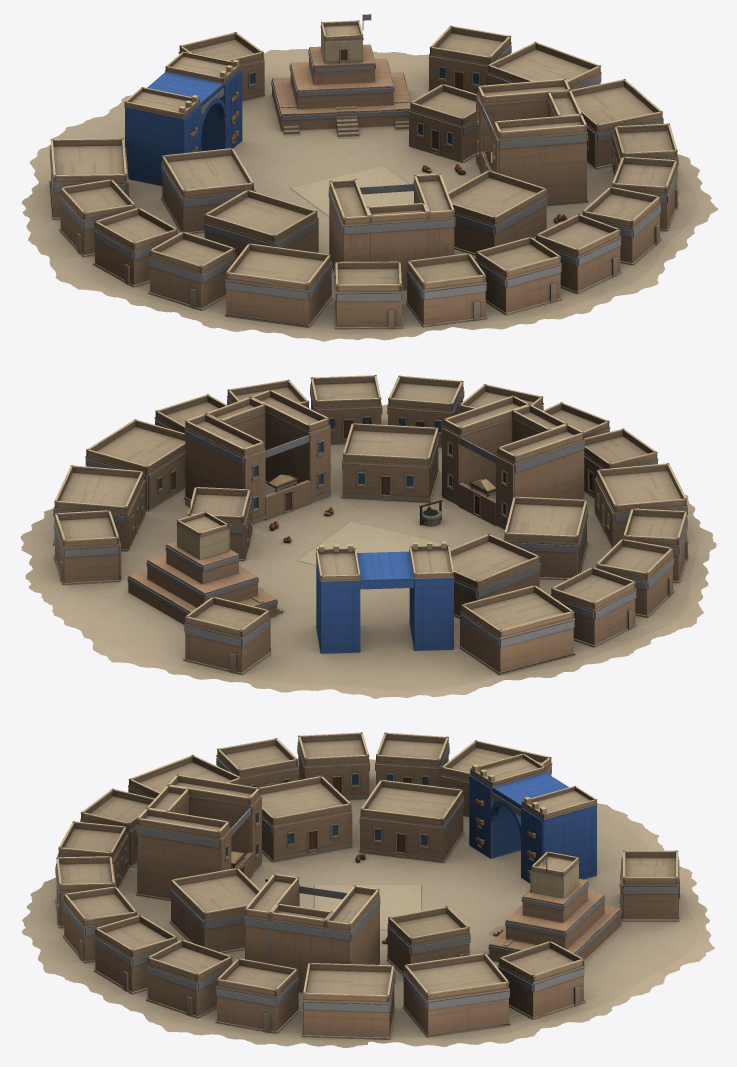
The model's file is bronze-town-big-b-levant.glb.
The picture shows the model from 3 angles, top to bottom: view 1: azimuth 30°, elevation 25°; view 2: azimuth 150°, elevation 25°; view 3: azimuth 270°, elevation 25°; orthographic projection.
Parts seen in each view (by area): view 1: LOD0; view 2: LOD0; view 3: LOD0.
Part boxes in pixels (left/top/right/bottom): LOD0: left=21, top=14, right=718, bottom=341; LOD0: left=20, top=375, right=716, bottom=698; LOD0: left=22, top=732, right=714, bottom=1047.
Size of what is drawn, in the model's own units: 7.95 by 1.2 by 8.01.
Materials: 3 (3 with a texture image).
